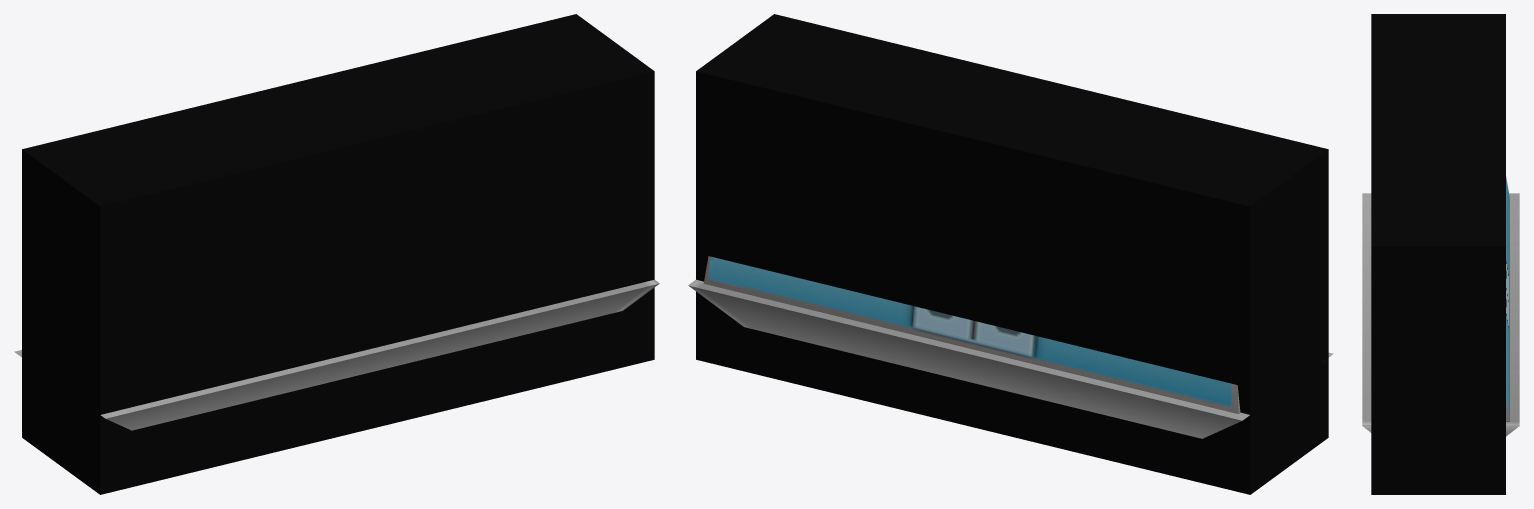
File: subwaysurferstrain1v2.glb
3 renders of one model, left to right at view 1: azimuth 30°, elevation 25°; view 2: azimuth 150°, elevation 25°; view 3: azimuth 270°, elevation 25°, orthographic. The views are drawn at different scales.
Visible parts, largest first — view 1: trainCollide, train1.001; view 2: trainCollide, train1.001; view 3: trainCollide, train1.001.
Part boxes in pixels (x1,y1,x2,y2): trainCollide: (22,14,654,494); train1.001: (14,279,659,430); trainCollide: (696,14,1328,494); train1.001: (688,256,1333,438); trainCollide: (1371,14,1505,494); train1.001: (1362,176,1519,436).
Size of the model in its own units: 14 by 6.96 by 4.
Materials: 2 (2 with a texture image).
